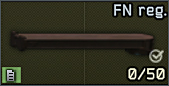FN P90 5.7x28 50-round magazine: (0, 0, 169, 86)
